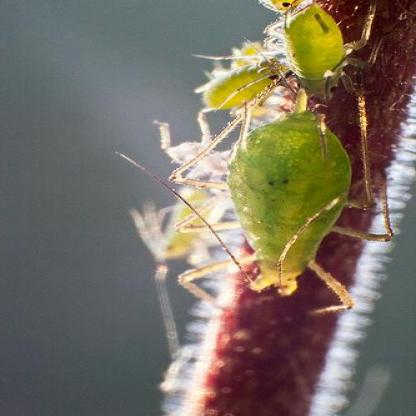aphid: (205, 116, 377, 314), (142, 131, 252, 278), (262, 6, 372, 88), (193, 45, 312, 111)
